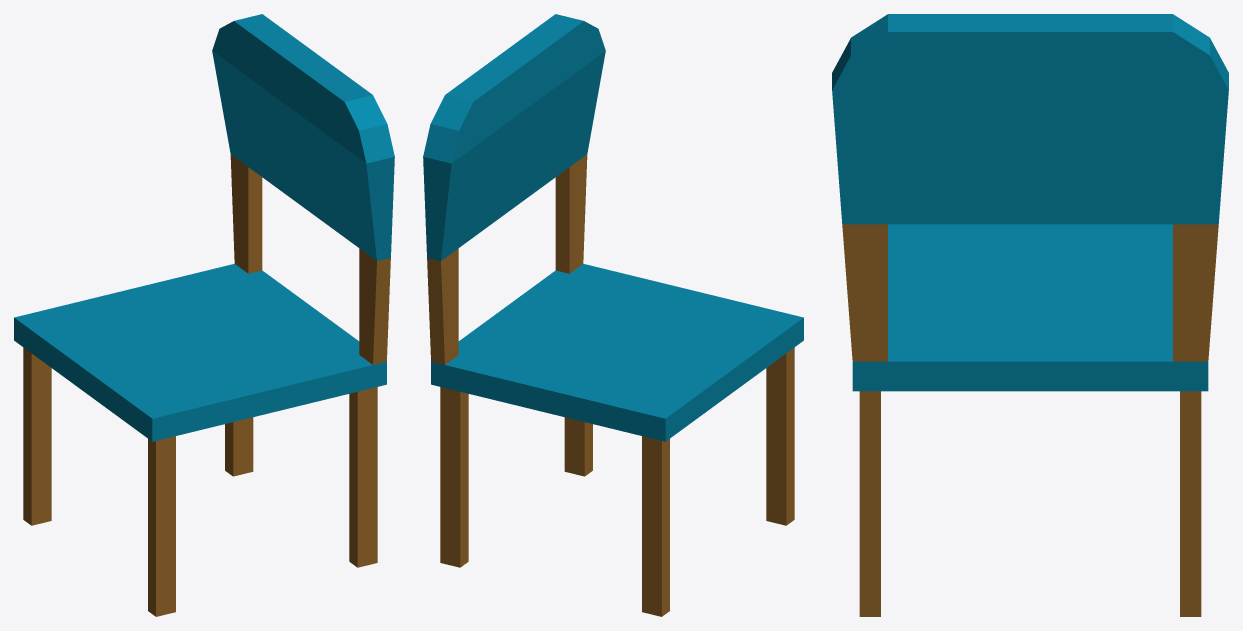
Rendered from normalchair_v02.fbx.
The picture shows the model from 3 angles, left to right: view 1: azimuth 30°, elevation 25°; view 2: azimuth 150°, elevation 25°; view 3: azimuth 270°, elevation 25°; orthographic projection. The views are drawn at different scales.
Visible parts, largest first — view 1: Chair01; view 2: Chair01; view 3: Chair01.
Boxes of the visible parts, x1,y1,x2,y2 form: Chair01: (14,14,394,616); Chair01: (423,14,803,616); Chair01: (832,14,1228,616).
Bounding box in the file's own units: 72.96 × 136 × 83.17.
